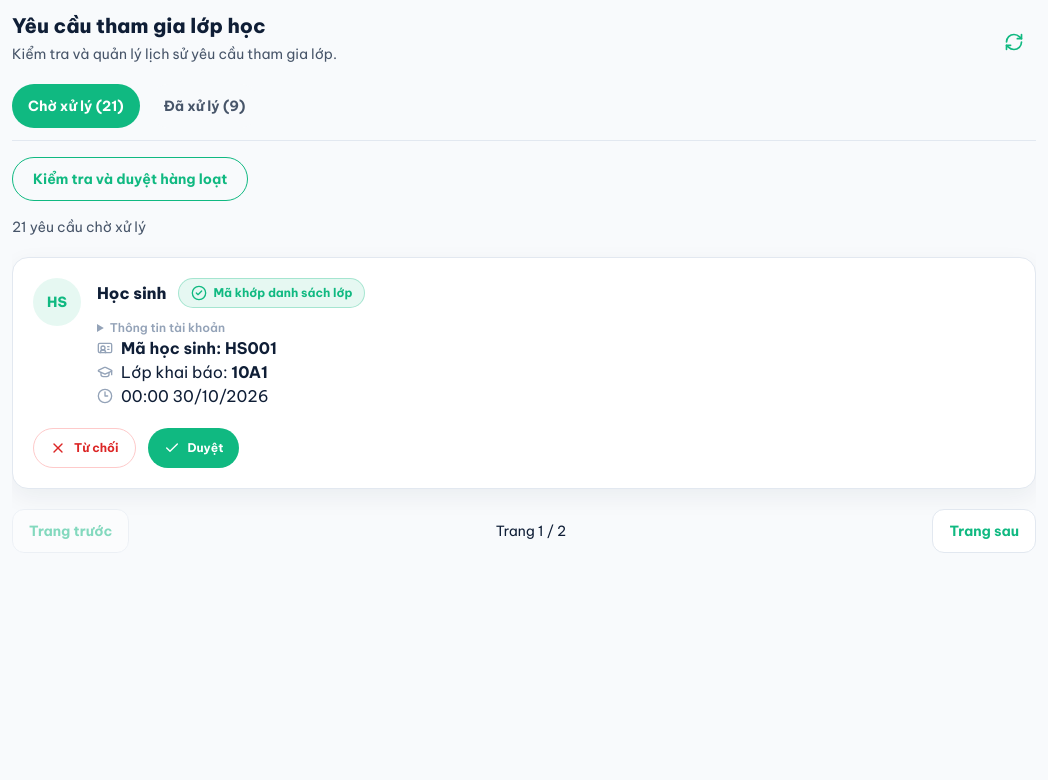
Test: teacher join request management › loads only this classroom, shows backend total, and paginates 20-row API pages
What coordinates should you click on to do the following:
click the button "Trang sau"
I would click on:
 (984, 531)
Its box is x1=932 y1=509 x2=1036 y2=553.
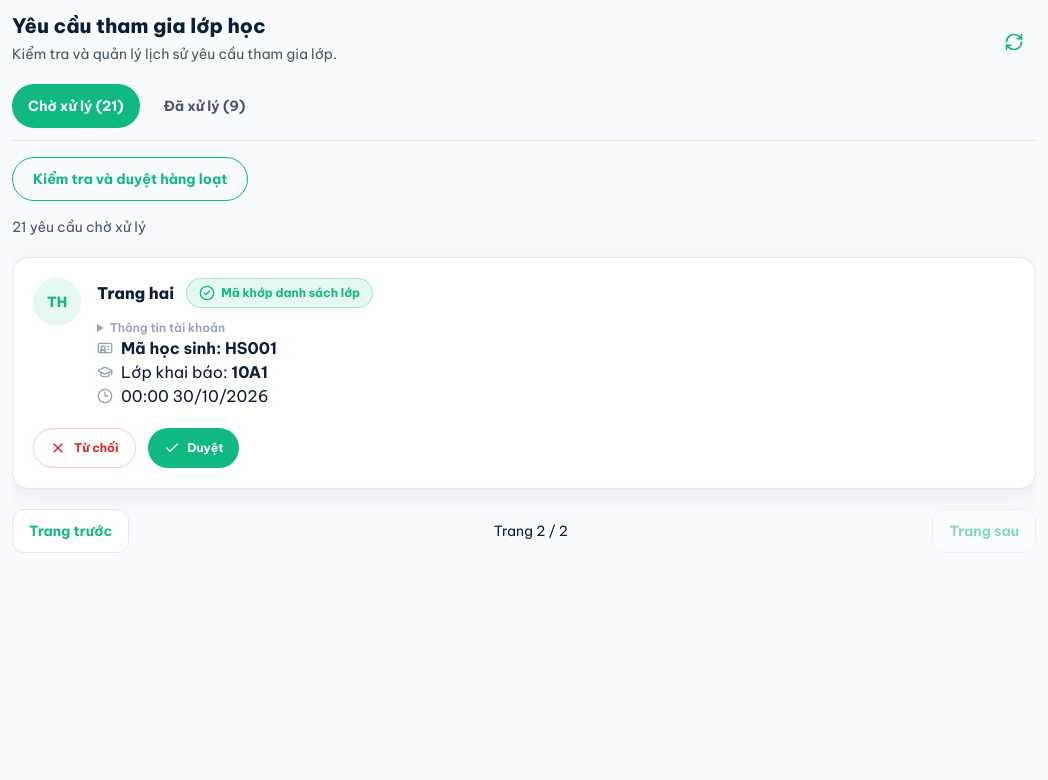
Expected: the text "Trang hai" is shown, x1=97 y1=281 x2=174 y2=305
